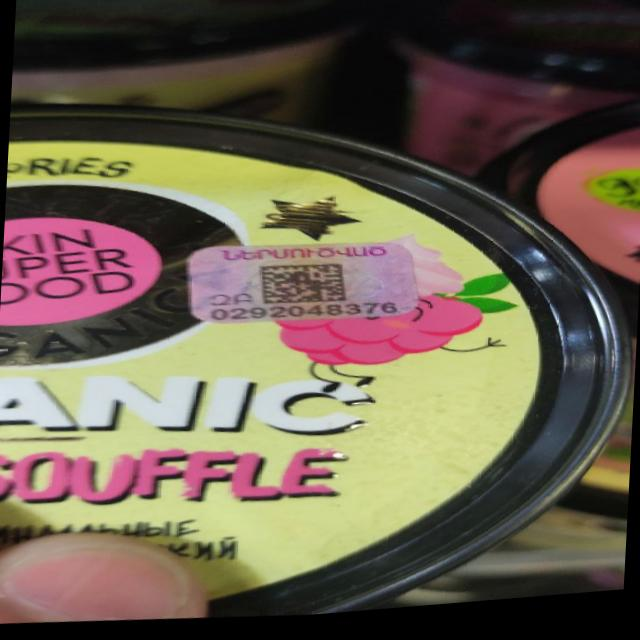datamatrix: (255, 263, 356, 316)
